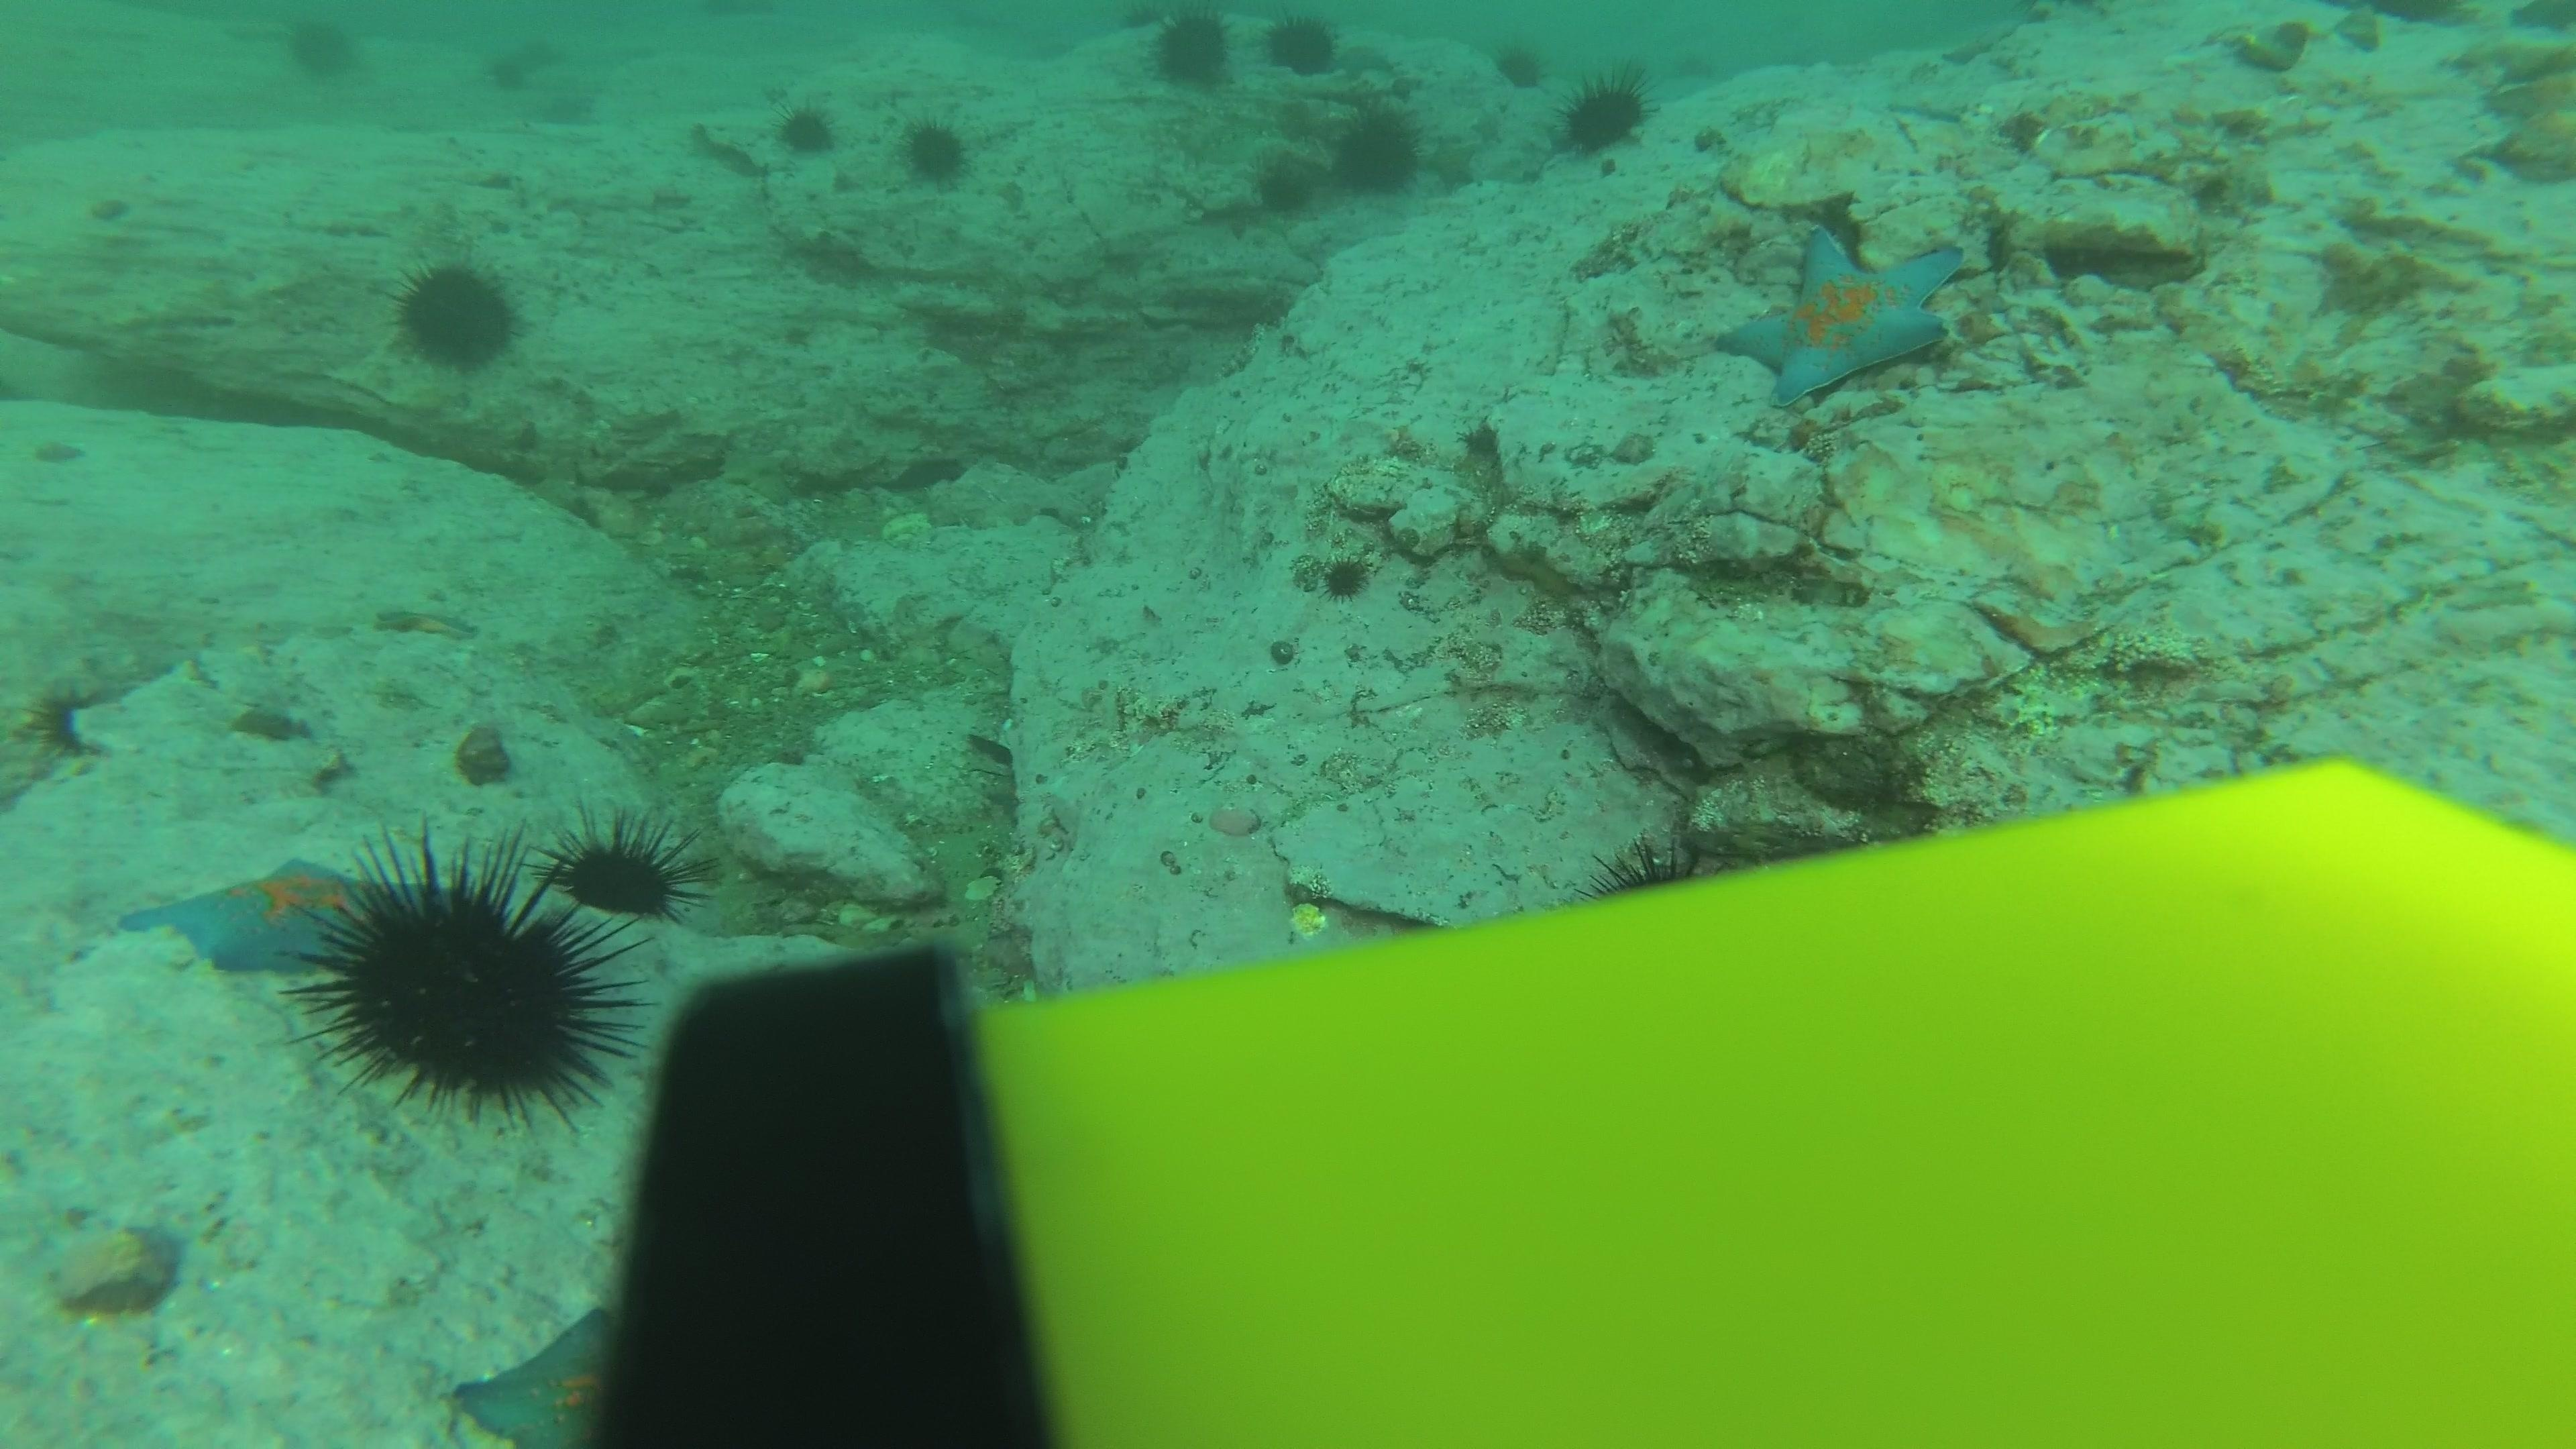echinus: (299, 833, 639, 1129), (547, 812, 695, 927), (389, 255, 524, 375), (1329, 101, 1426, 200), (1553, 69, 1654, 161), (1141, 5, 1237, 94), (278, 11, 368, 87), (897, 111, 977, 189), (1261, 11, 1343, 81), (1484, 39, 1553, 104), (1251, 152, 1318, 218), (771, 96, 839, 159)
starfish: (1709, 219, 1971, 409), (113, 844, 458, 980), (444, 1295, 649, 1442), (370, 594, 479, 644), (488, 46, 571, 108), (527, 80, 609, 142), (1424, 133, 1481, 195)
